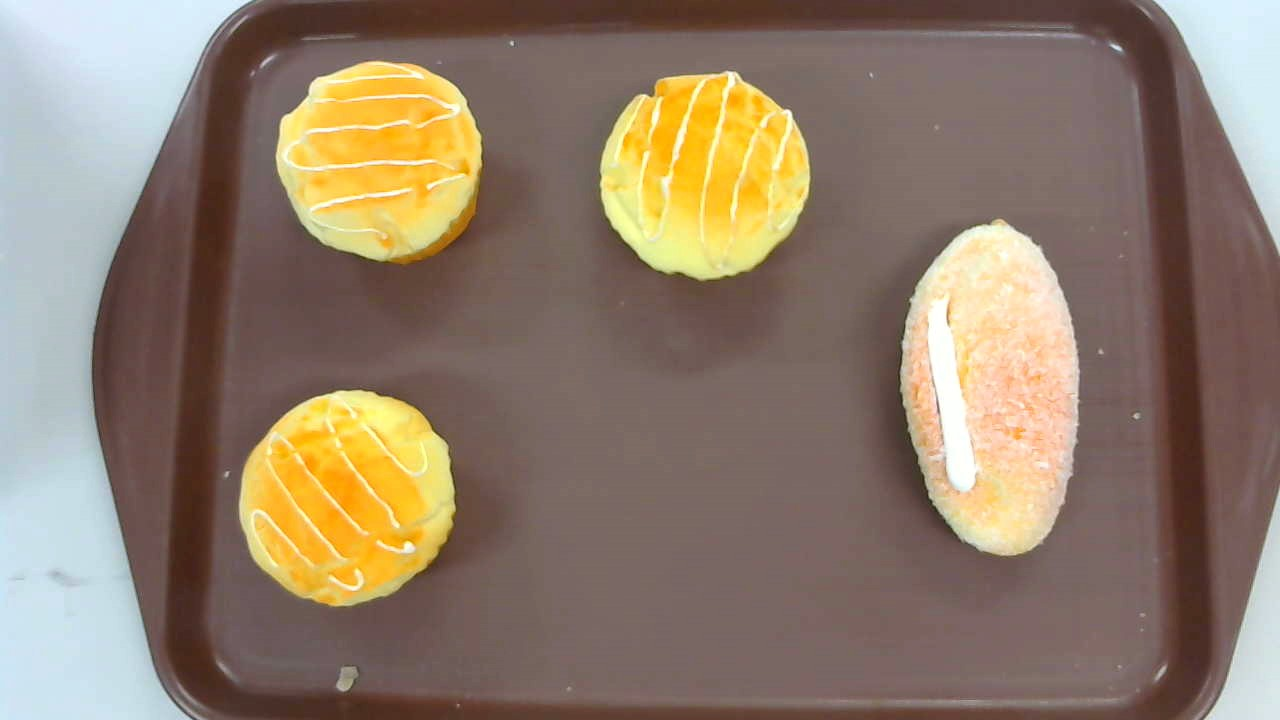coconut: (898, 220, 1080, 559)
cupcake: (238, 387, 456, 607), (600, 71, 810, 282), (275, 60, 482, 266)
